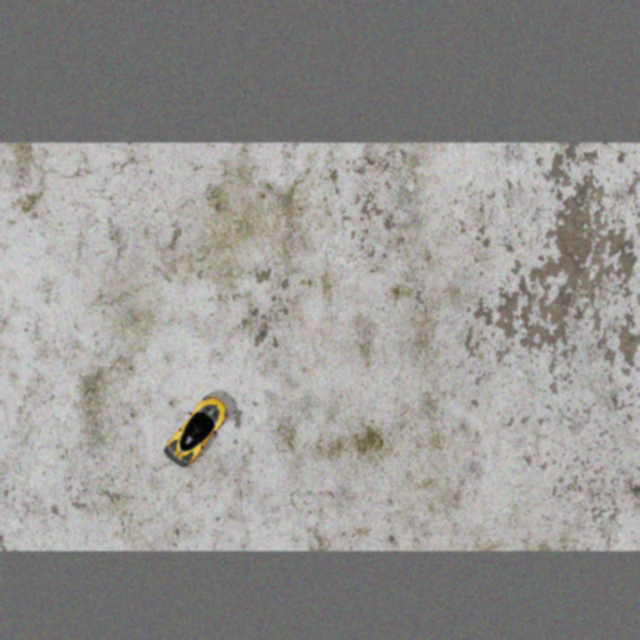car: (159, 390, 235, 473)
